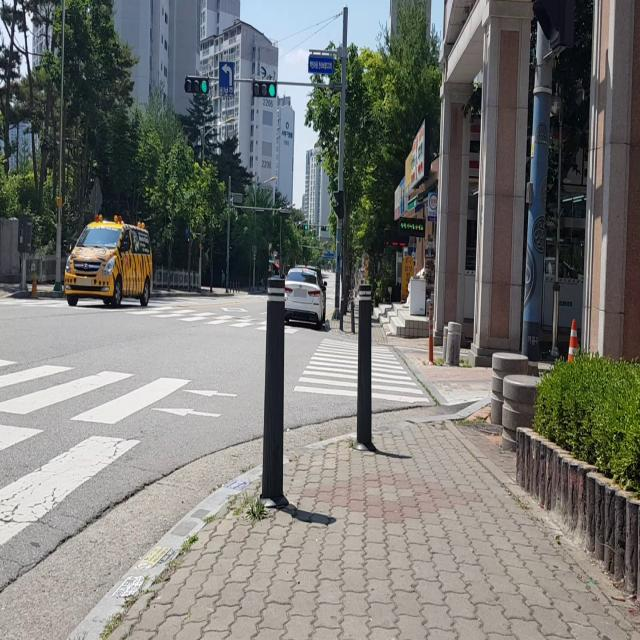횡단보도: (0, 363, 193, 553), (292, 337, 431, 406), (129, 300, 267, 336)
